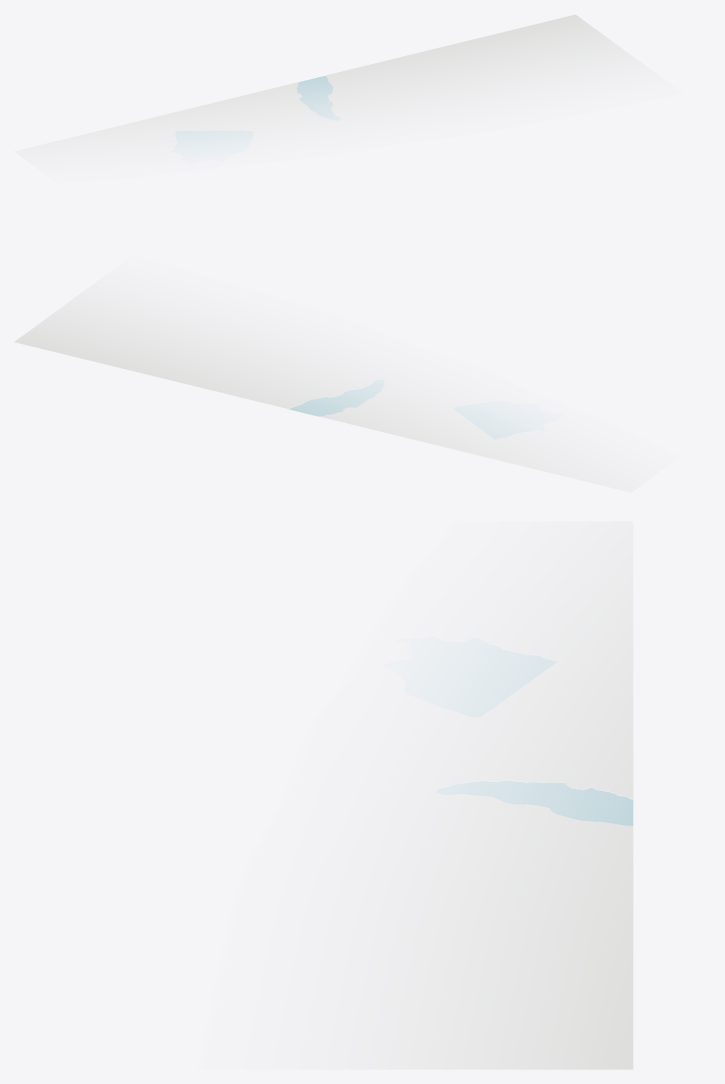
3 renders of one model, top to bottom at view 1: azimuth 30°, elevation 25°; view 2: azimuth 150°, elevation 25°; view 3: azimuth 270°, elevation 25°, orthographic. The views are drawn at different scales.
Visible parts, largest first — view 1: city; view 2: city; view 3: city.
Part boxes in pixels (box(x1,y1,x2,y2)): city: box(16, 14, 644, 153); city: box(14, 286, 633, 491); city: box(351, 522, 633, 1069).
Size of the model in its own units: 500 by 0.18 by 209.
